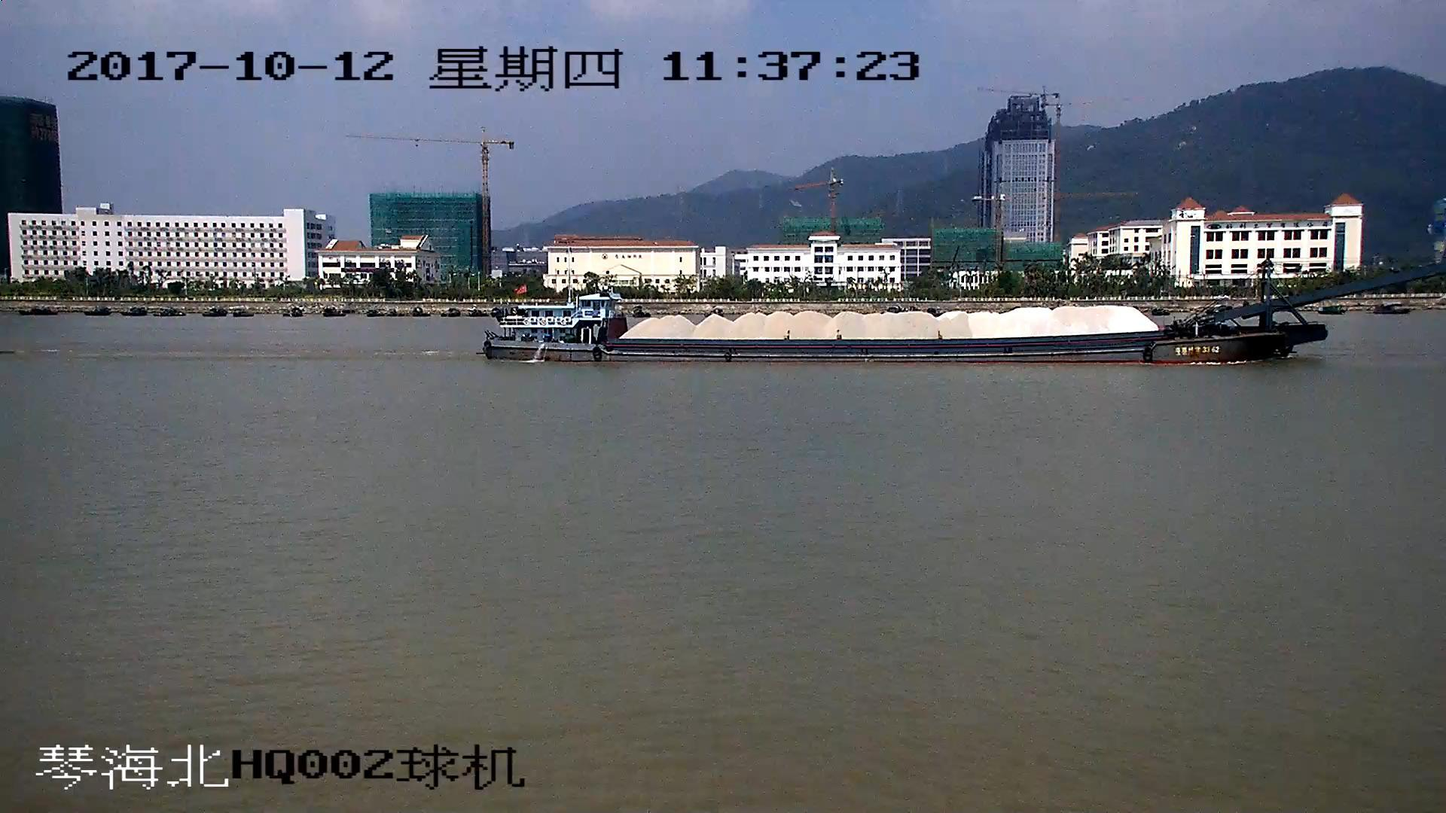ore carrier: (482, 261, 1445, 361)
